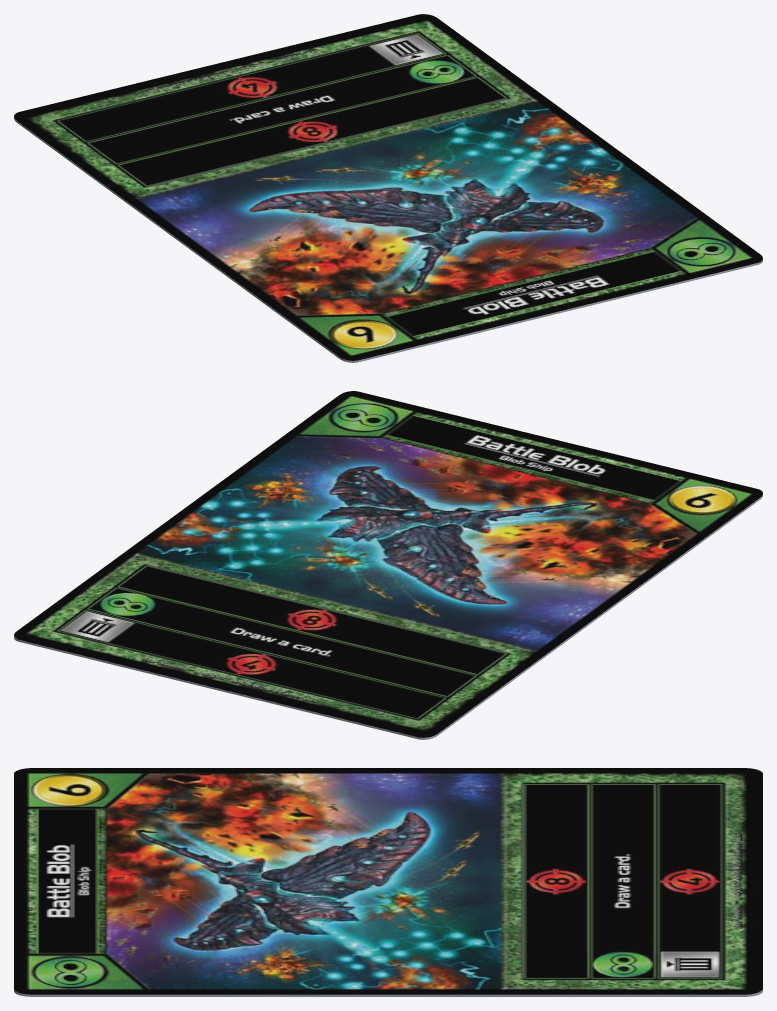
File: card.gltf
3 renders of one model, top to bottom at view 1: azimuth 30°, elevation 25°; view 2: azimuth 150°, elevation 25°; view 3: azimuth 270°, elevation 25°, orthographic. The views are drawn at different scales.
Parts seen in each view (by area): view 1: Ship, Side; view 2: Ship, Side; view 3: Ship, Side.
Part boxes in pixels (bbox=[...]): Ship: bbox=[14, 14, 762, 360]; Side: bbox=[14, 117, 762, 362]; Ship: bbox=[14, 391, 762, 737]; Side: bbox=[14, 494, 762, 739]; Ship: bbox=[14, 768, 762, 994]; Side: bbox=[14, 990, 762, 996].
Size of the model in its own units: 6.3 by 0.0294 by 8.8.
Materials: 4 (4 with a texture image).
